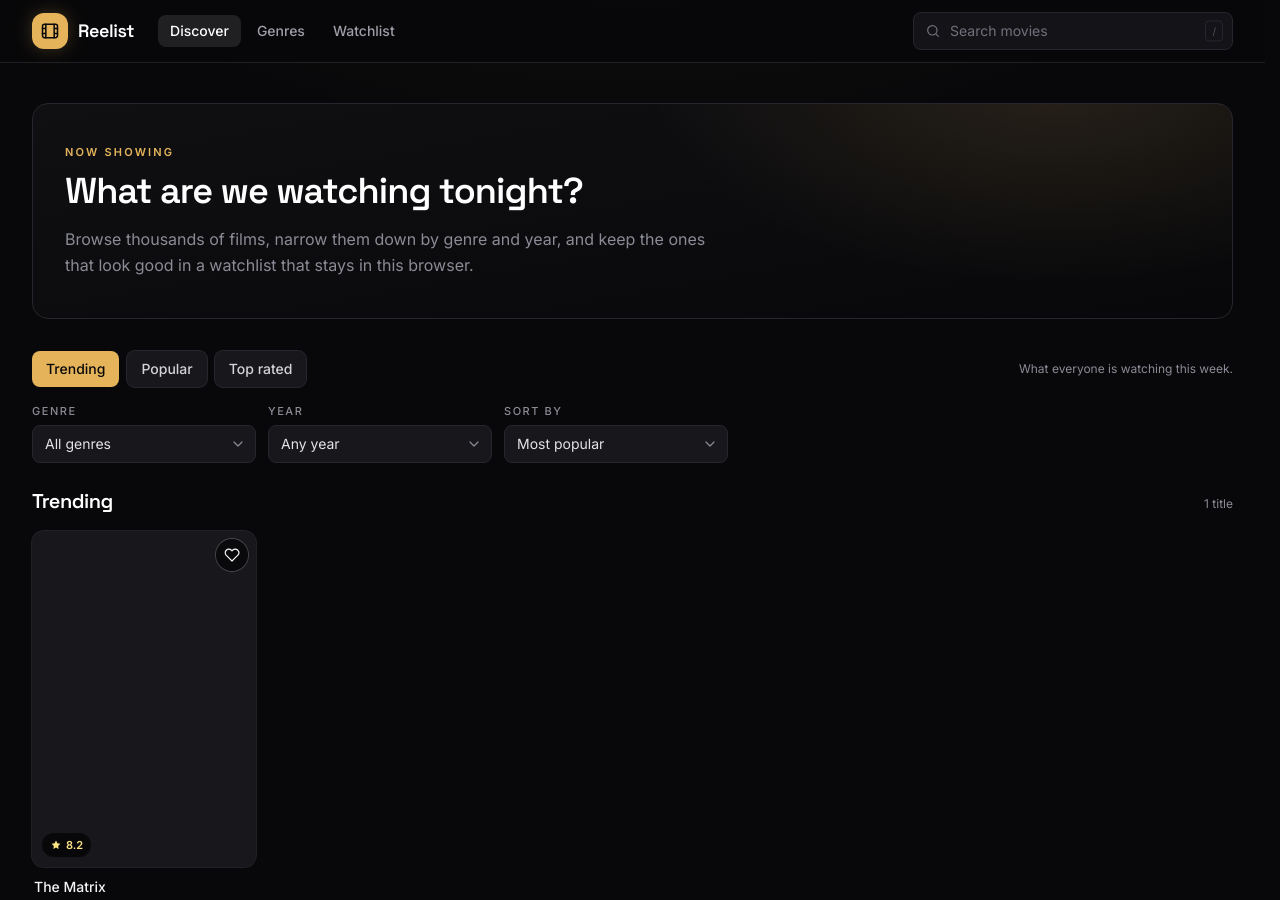
Reelist app › searches as the query is typed
Expected: the heading "The Matrix" is shown, [34,878,106,895]
Step 1. Type "matrix" into the search field labelled "Search movies" → (1073,31), box [913,12,1233,50]
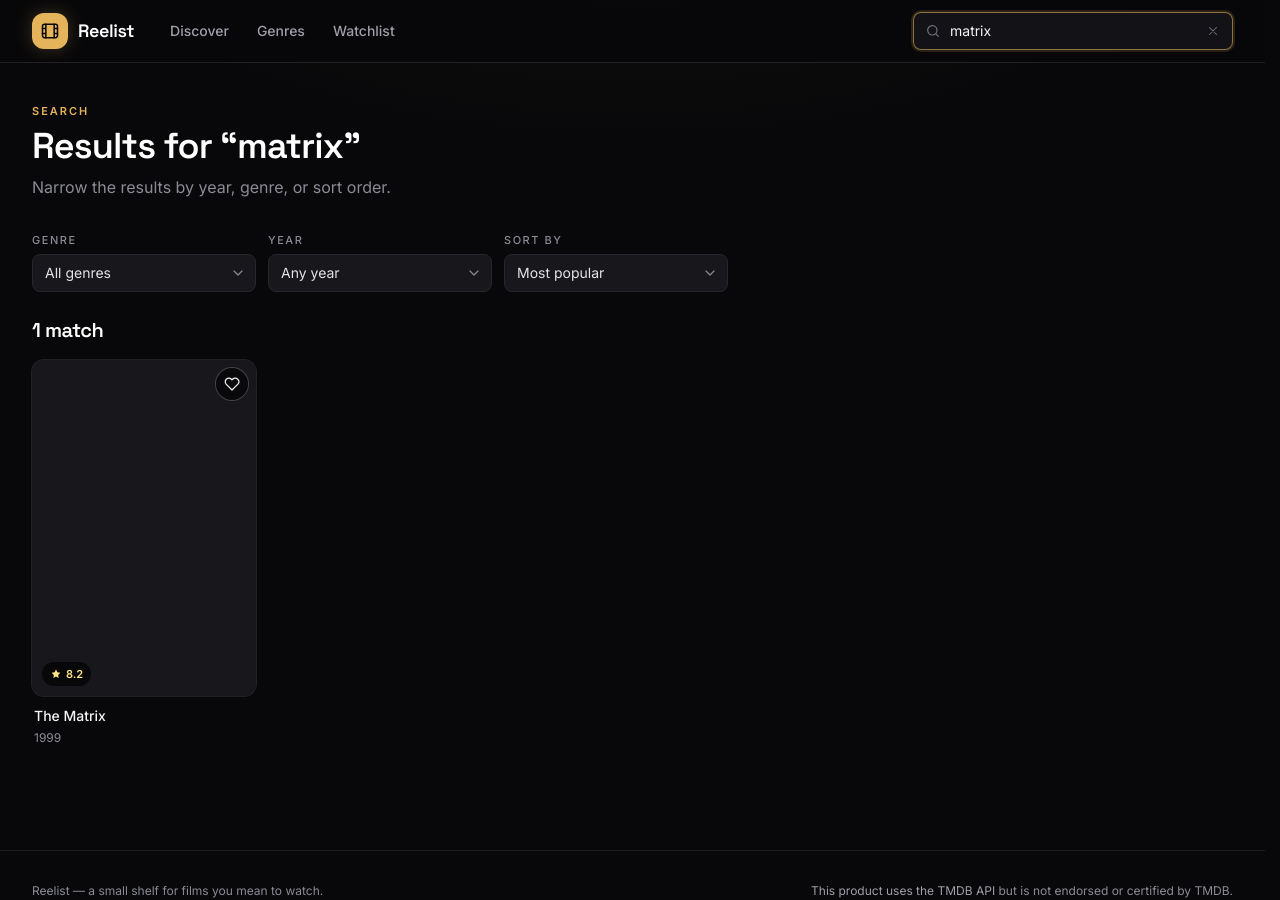
Expected: the heading "The Matrix" is shown, [34,707,106,724]
Expected: the heading "Results for “matrix”" is shown, [32,126,391,166]
